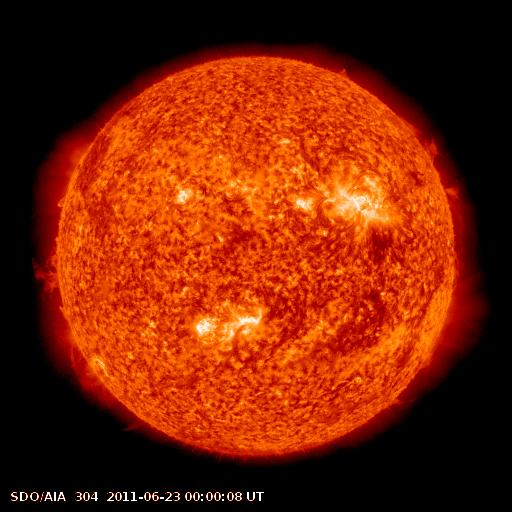prominence: (58, 339, 148, 433), (441, 185, 473, 292), (391, 105, 444, 166), (26, 234, 68, 293), (416, 337, 443, 378)
